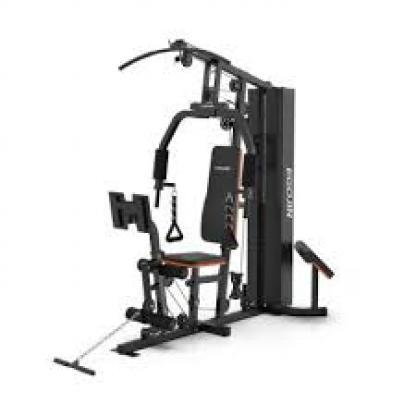Lat Pull Down: (52, 38, 332, 376)
